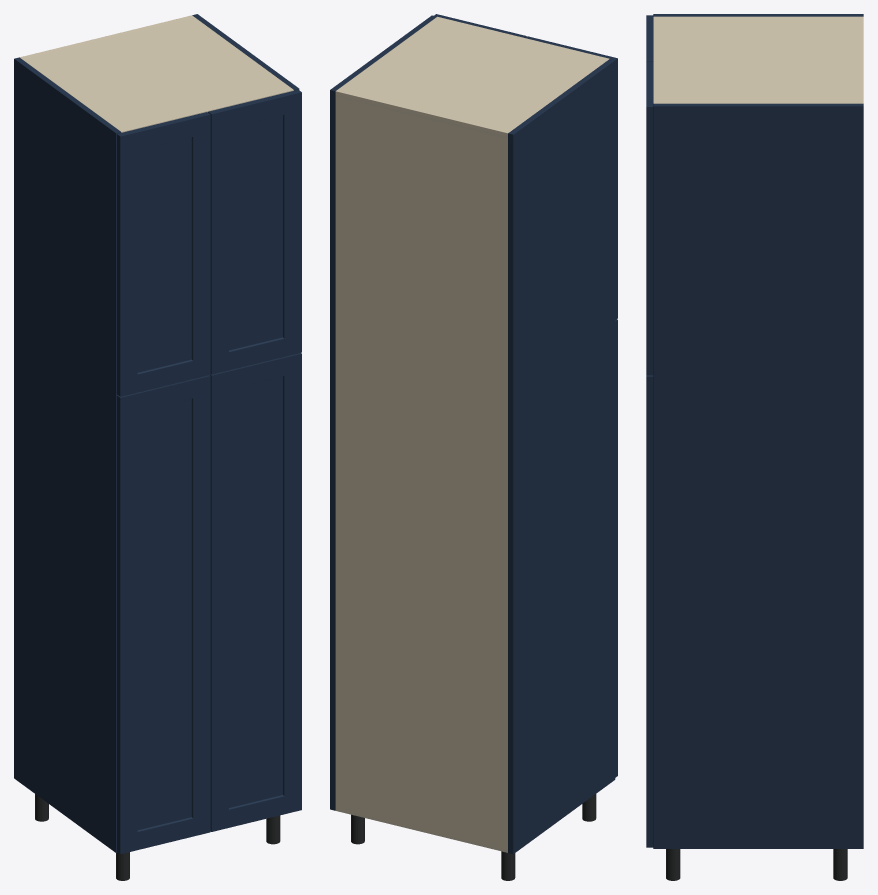
Rendered from oppein-ply-bss-pc2490.glb.
The picture shows the model from 3 angles, left to right: view 1: azimuth 30°, elevation 25°; view 2: azimuth 150°, elevation 25°; view 3: azimuth 270°, elevation 25°; orthographic projection. The views are drawn at different scales.
Visible parts, largest first — view 1: Cabinet side, Door, Door.001, Door.002, Door.003, Cabinet top, Cabinet side.001; view 2: Cabinet back, Cabinet side, Cabinet top, Cabinet side.001, Door, Door.002, Cabinet bottom; view 3: Cabinet side.001, Cabinet top, Door.001, Door.003, Cabinet side, Adjustable foot.003, Adjustable foot.002.
Boxes of the visible parts, box(x1,y1,x2,y2) form: Cabinet side: box(14, 57, 121, 852); Door: box(117, 375, 210, 854); Door.001: box(210, 353, 301, 831); Door.002: box(117, 112, 210, 396); Door.003: box(208, 89, 301, 374); Cabinet top: box(21, 16, 293, 132); Cabinet side.001: box(192, 14, 299, 90); Cabinet back: box(335, 89, 509, 852); Cabinet side: box(508, 59, 615, 854); Cabinet top: box(336, 16, 609, 138); Cabinet side.001: box(330, 15, 436, 810); Door: box(615, 319, 617, 777); Door.002: box(525, 36, 617, 319); Cabinet bottom: box(335, 805, 507, 852); Cabinet side.001: box(653, 103, 863, 848); Cabinet top: box(653, 16, 859, 103); Door.001: box(646, 375, 653, 847); Door.003: box(646, 61, 653, 375); Cabinet side: box(653, 14, 863, 16); Adjustable foot.003: box(666, 849, 680, 880); Adjustable foot.002: box(833, 849, 847, 880).
Size of the model in its own units: 0.6096 by 2.4 by 0.6064.
